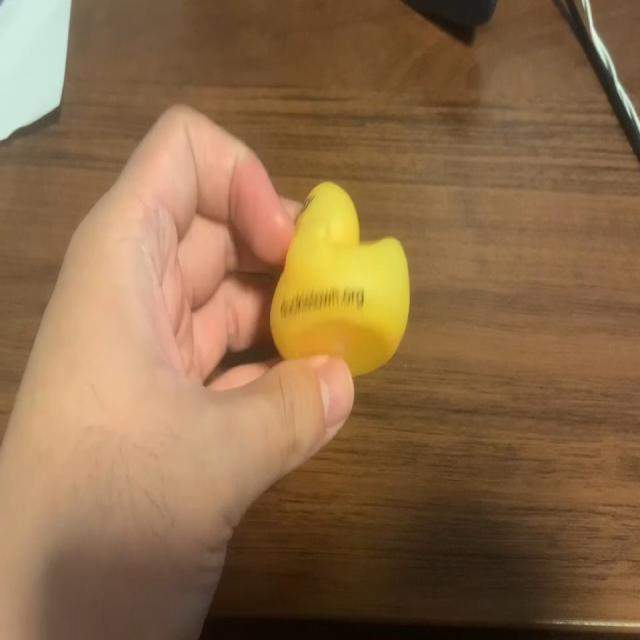rubber-duck: (270, 181, 408, 373)
